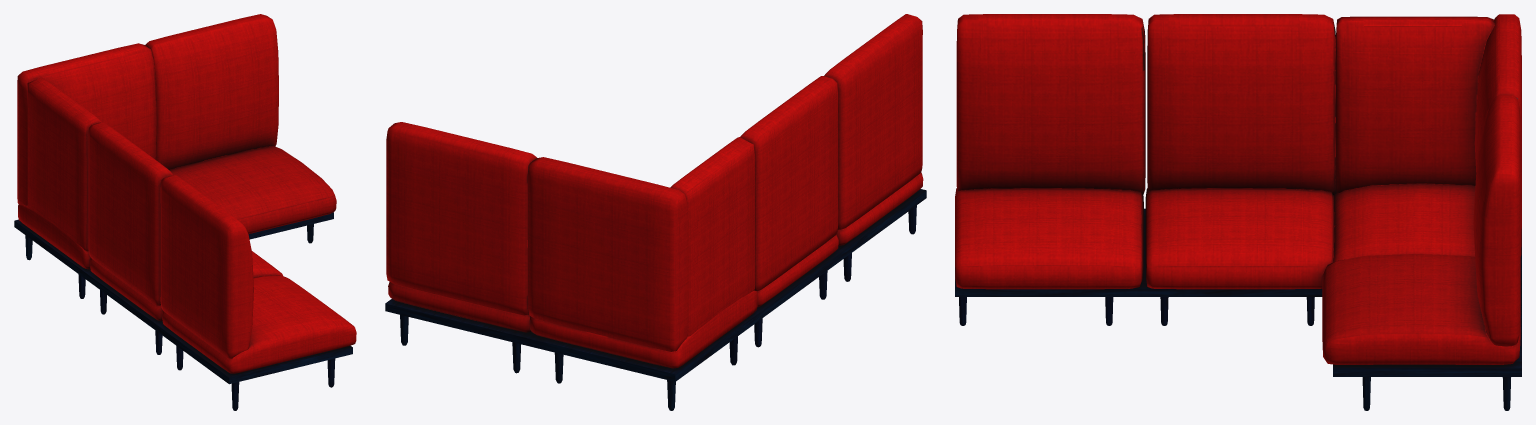
File: obj_marceline_s_bedroom_couch_f0ff38.glb
3 renders of one model, left to right at view 1: azimuth 30°, elevation 25°; view 2: azimuth 150°, elevation 25°; view 3: azimuth 270°, elevation 25°, orthographic. The views are drawn at different scales.
Parts seen in each view (by area): view 1: obj_marceline_s_bedroom_couch_f0ff38; view 2: obj_marceline_s_bedroom_couch_f0ff38; view 3: obj_marceline_s_bedroom_couch_f0ff38.
Part boxes in pixels (left/top/right/bottom): obj_marceline_s_bedroom_couch_f0ff38: left=14, top=14, right=356, bottom=410; obj_marceline_s_bedroom_couch_f0ff38: left=385, top=14, right=926, bottom=410; obj_marceline_s_bedroom_couch_f0ff38: left=955, top=14, right=1521, bottom=410.
Size of the model in its own units: 1.42 by 1.01 by 2.1.
1 material, 1 textured.
